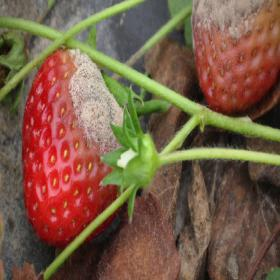Gray Mold: (63, 48, 123, 164)
